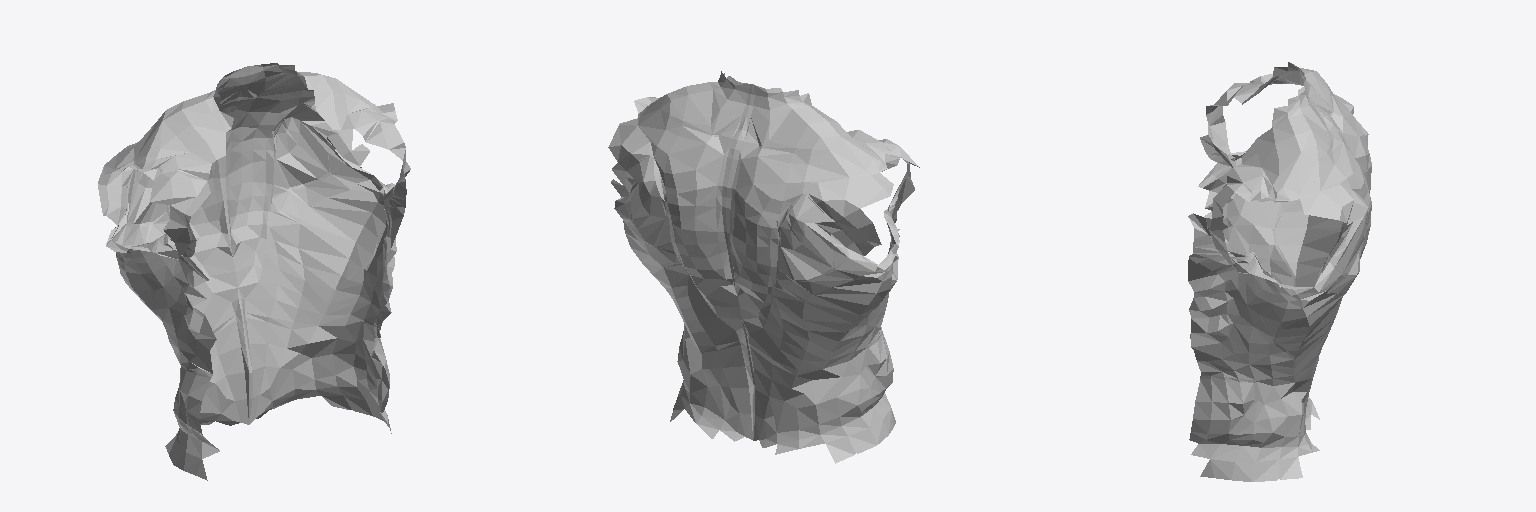
The model's file is BackSideOfLiverNEW1.obj.
3 views of the same model, side by side, from view 1: azimuth 30°, elevation 25°; view 2: azimuth 150°, elevation 25°; view 3: azimuth 270°, elevation 25° (orthographic).
Visible parts, largest first — view 1: BODYBUILDER__MEDIUM; view 2: BODYBUILDER__MEDIUM; view 3: BODYBUILDER__MEDIUM.
Boxes of the visible parts, x1,y1,x2,y2 form: BODYBUILDER__MEDIUM: [98, 63, 410, 480]; BODYBUILDER__MEDIUM: [608, 71, 919, 463]; BODYBUILDER__MEDIUM: [1188, 62, 1371, 481].
Bounding box in the file's own units: 20.96 × 26.22 × 12.18.